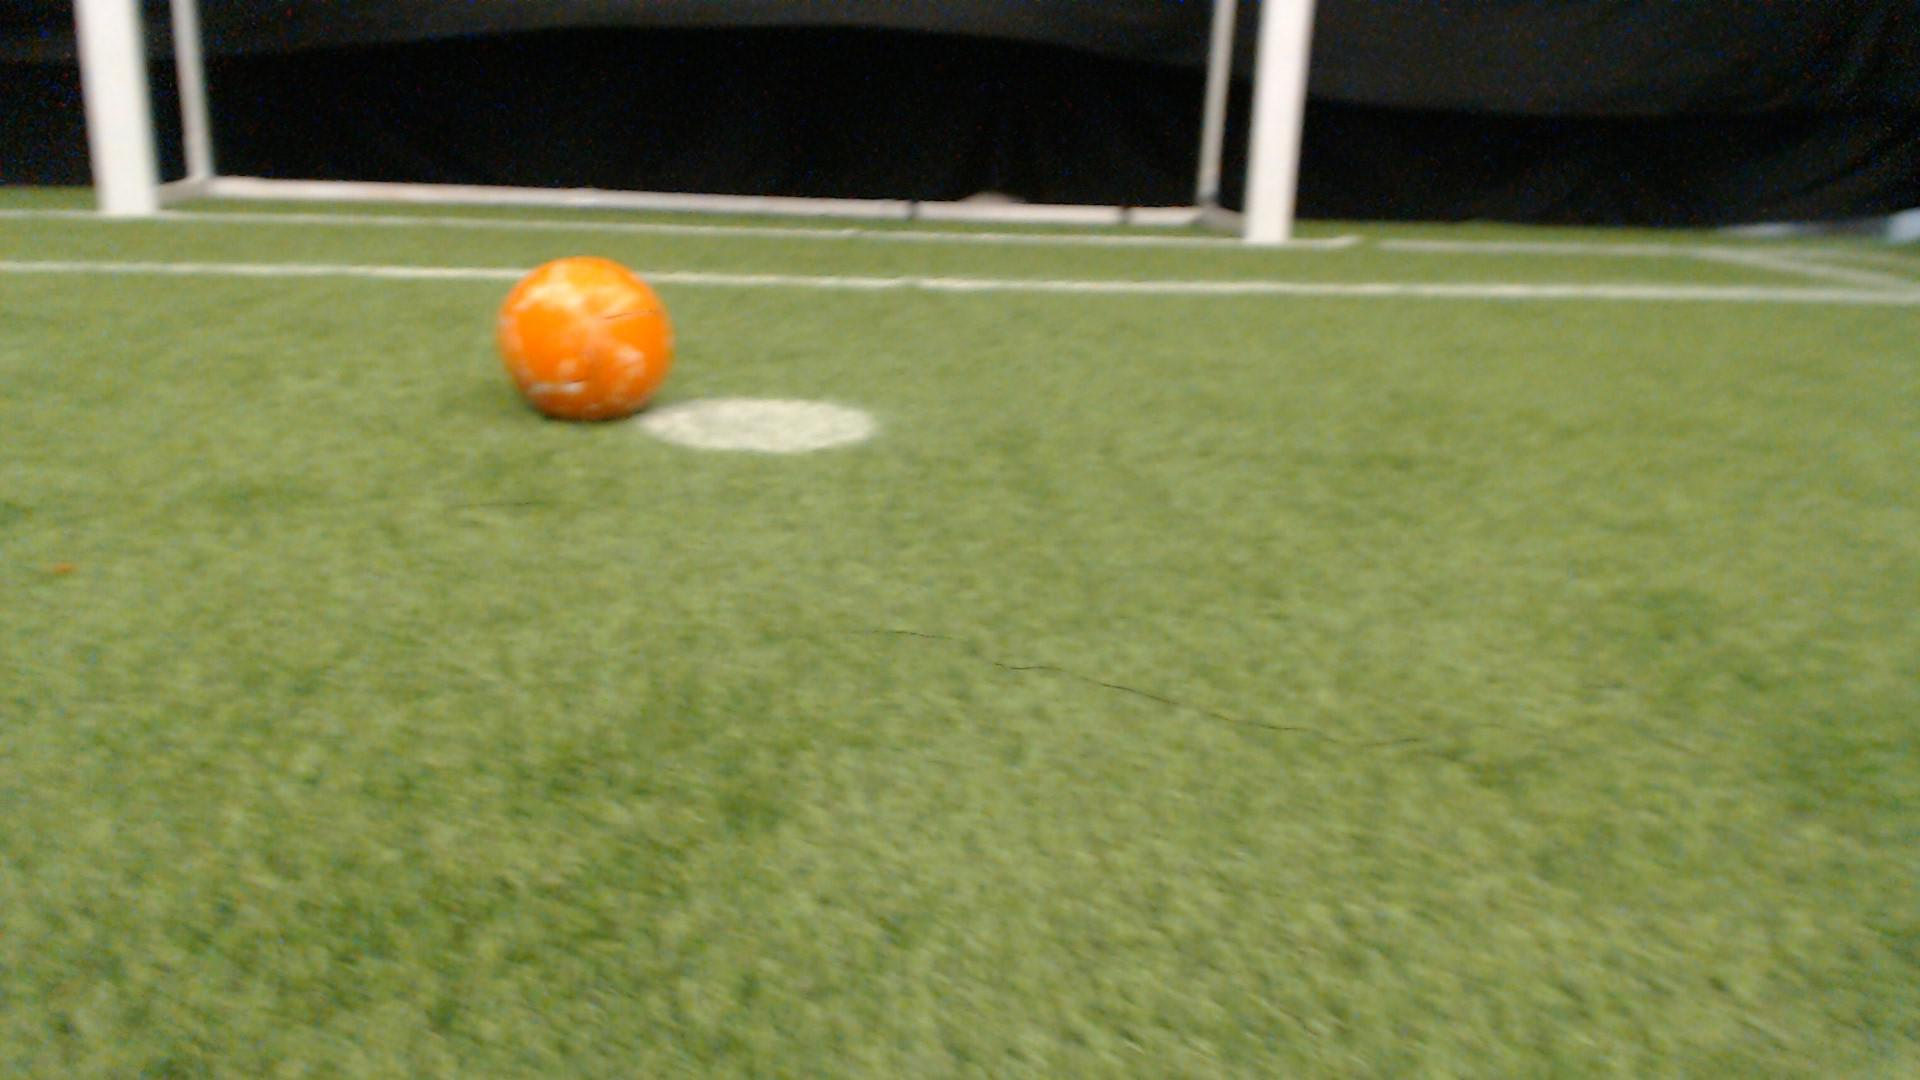bola: (464, 248, 700, 435)
